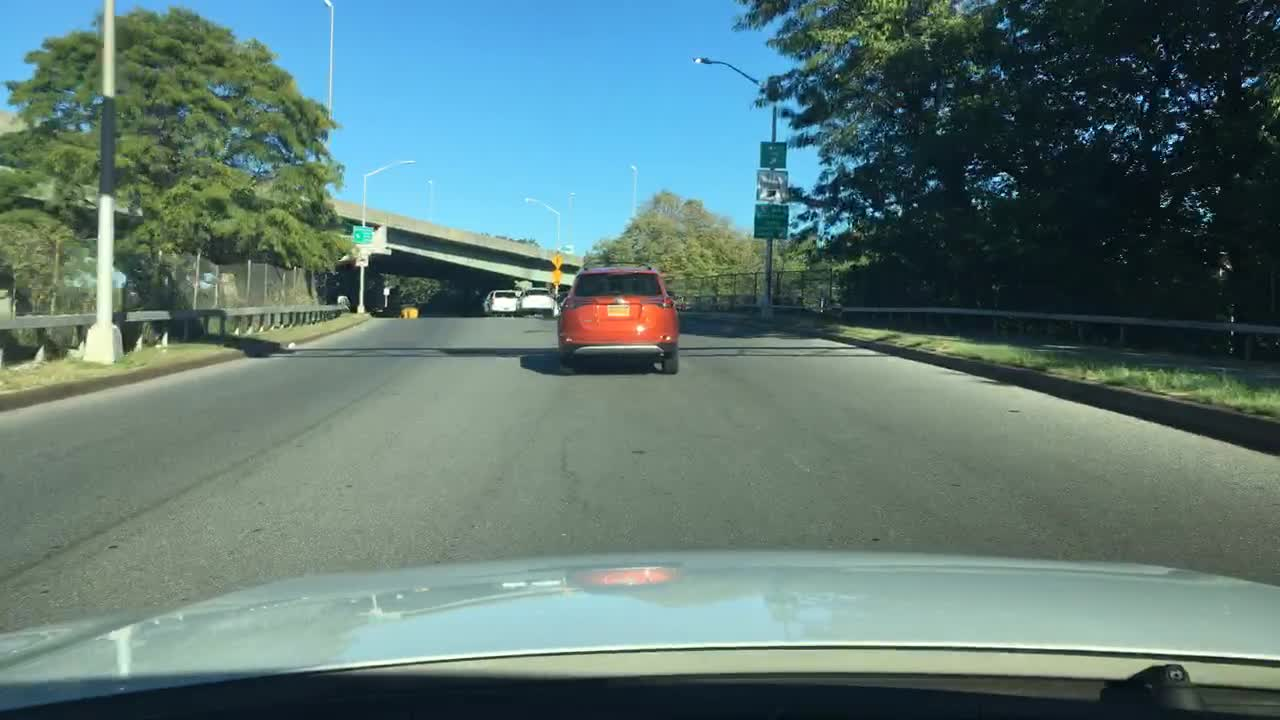car: (550, 258, 678, 378), (513, 282, 560, 320), (477, 287, 523, 314)
traffic sign: (752, 202, 786, 238), (754, 169, 788, 202), (759, 140, 786, 169), (351, 226, 368, 245), (550, 266, 563, 287), (354, 253, 369, 268), (550, 253, 565, 266)
